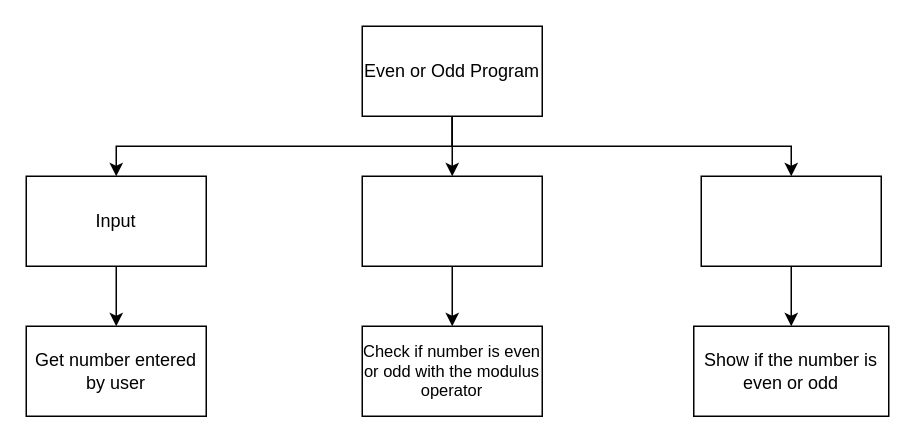
This 915x443 diagram has some shape labels left out. The shapes that lost their labels are listed below. From the top down, each one's centre as x and y in pixels, then its label:
At (451,220): "Process".
At (790,220): "Output".
